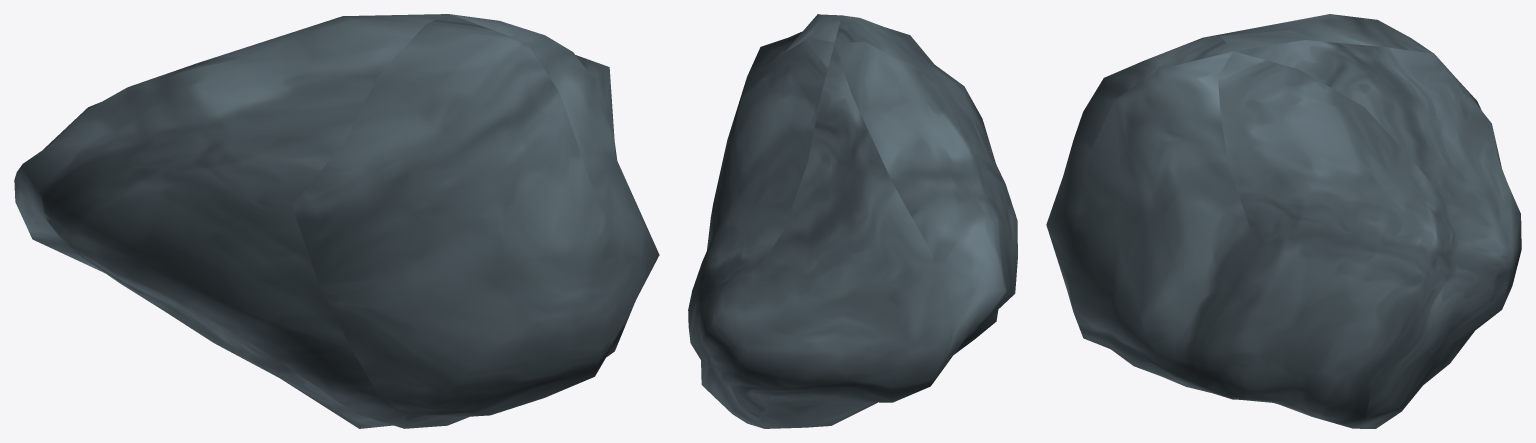
The model's file is rock1.glb.
3 renders of one model, left to right at view 1: azimuth 30°, elevation 25°; view 2: azimuth 150°, elevation 25°; view 3: azimuth 270°, elevation 25°, orthographic. The views are drawn at different scales.
Parts seen in each view (by area): view 1: Rock01_LOD0; view 2: Rock01_LOD0; view 3: Rock01_LOD0.
Part boxes in pixels (box(x1,y1,x2,y2)): Rock01_LOD0: box(14, 14, 659, 428); Rock01_LOD0: box(688, 14, 1017, 428); Rock01_LOD0: box(1046, 14, 1521, 428).
Size of what is drawn, in the model's own units: 6.17 by 5.48 by 6.38.
Materials: 1 (1 with a texture image).
